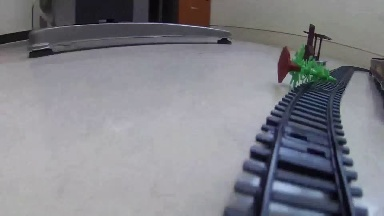tree: (277, 45, 336, 85)
